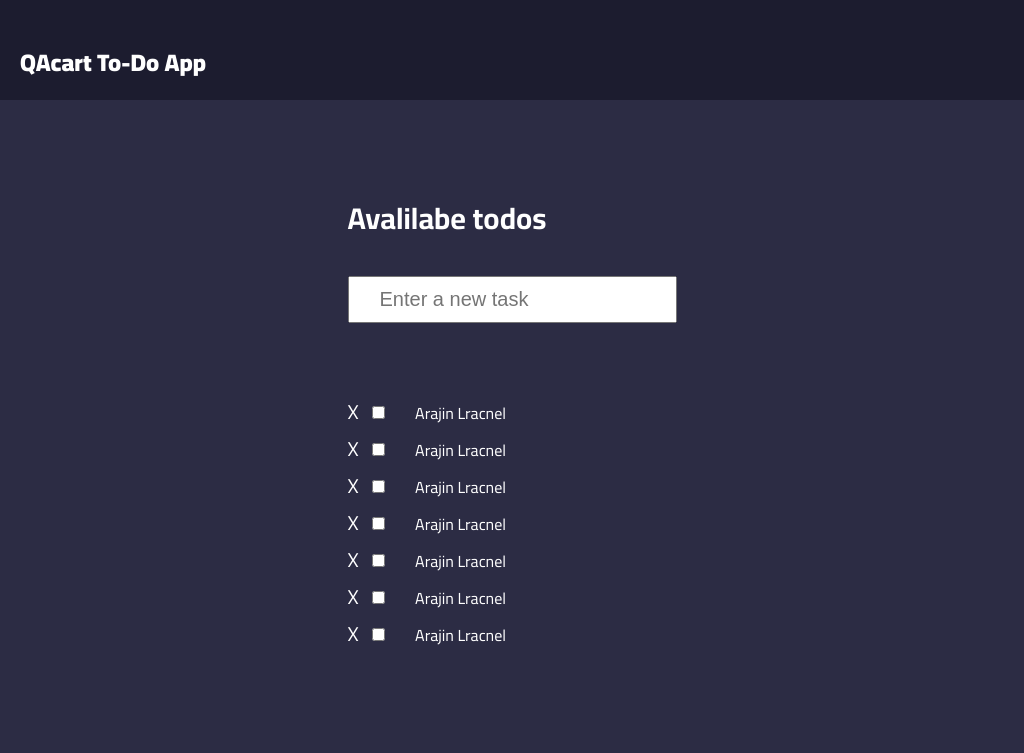
Test: Todo Ui testing › schuld add new to correctly
Type "Arajin Lracnel" into the field with class "todo-input". click: (513, 300)
box: [348, 276, 677, 323]
Then press Enter
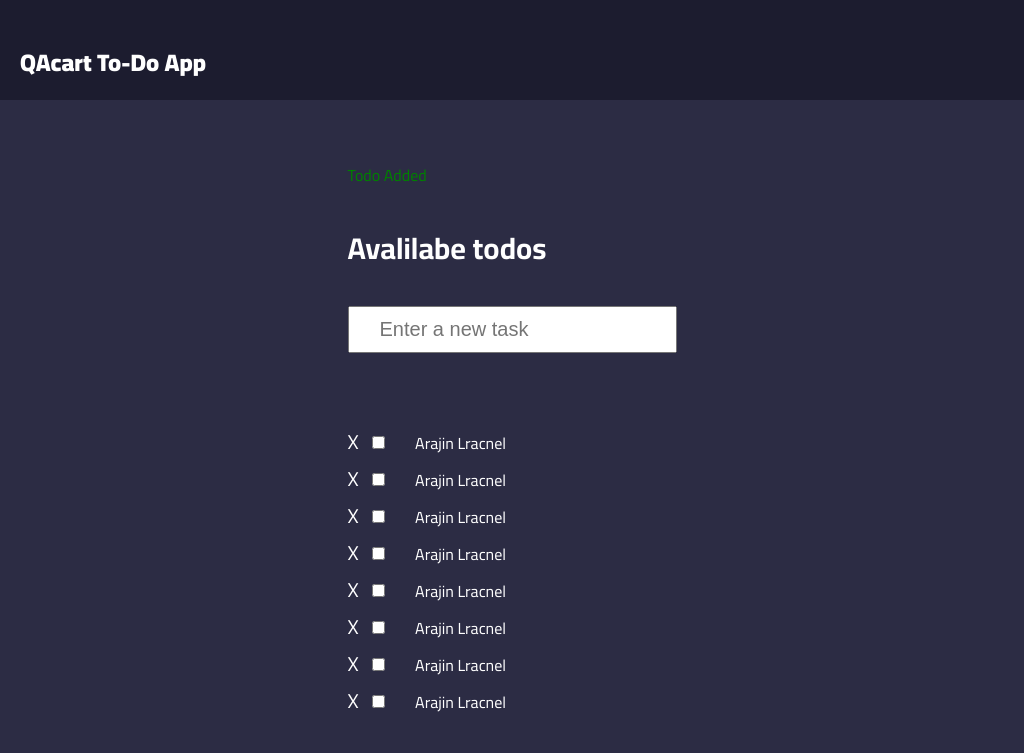
Now the text "Todo Added" is shown, box [348, 160, 427, 190]
Now the 8th list item with class "todo-item" shows "Arajin Lracnel", box [348, 682, 507, 719]
